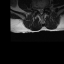CCS_normal: (40, 7, 42, 15)
LFS_stenosis: (44, 5, 46, 10)
LLS_normal: (42, 7, 44, 12)
RFS_normal: (35, 7, 38, 12)
RLS_normal: (38, 7, 40, 13)
